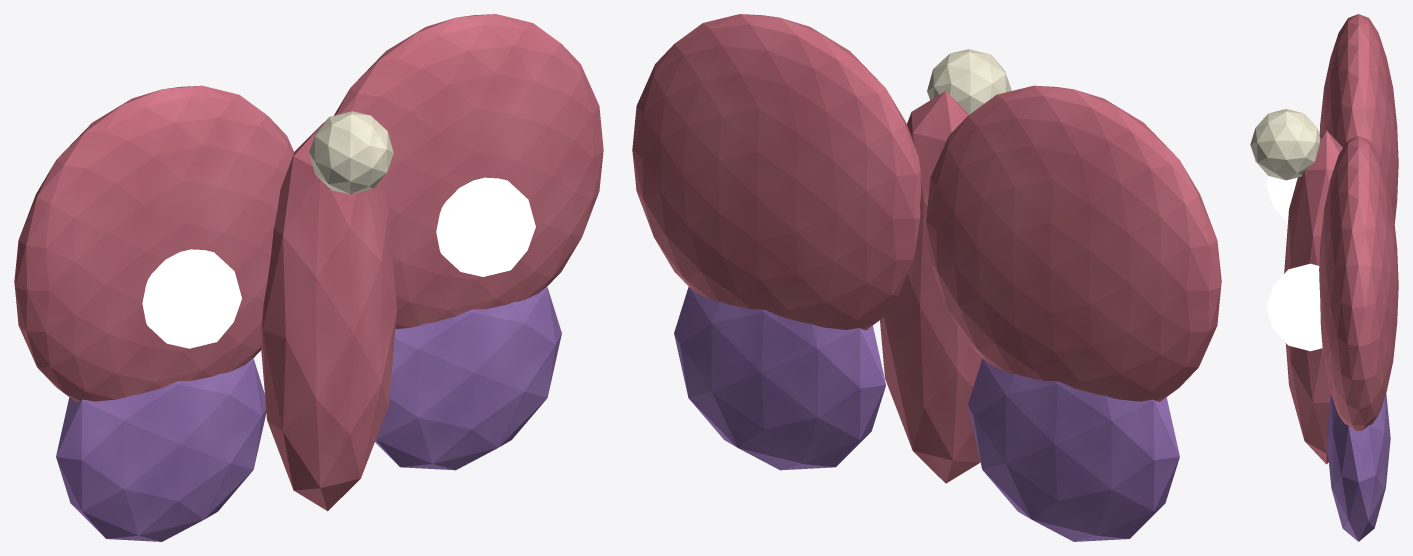
The model's file is liefde.glb.
3 views of the same model, side by side, from view 1: azimuth 30°, elevation 25°; view 2: azimuth 150°, elevation 25°; view 3: azimuth 270°, elevation 25° (orthographic). The views are drawn at different scales.
Visible parts, largest first — view 1: world; view 2: world; view 3: world.
Part boxes in pixels (box(x1,y1,x2,y2)): world: box(14, 14, 603, 541); world: box(632, 14, 1221, 541); world: box(1250, 14, 1398, 541).
Bounding box in the file's own units: 0.8015 × 0.59 × 0.2059.
2 materials, 1 textured.
